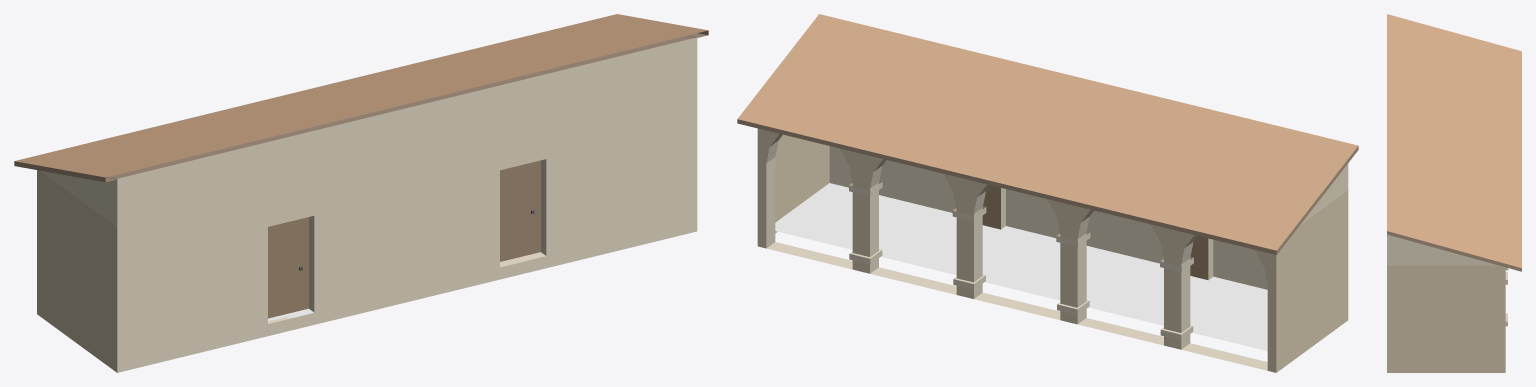
The model's file is SM_BM_BH_Chiostro.glb.
The picture shows the model from 3 angles, left to right: view 1: azimuth 30°, elevation 25°; view 2: azimuth 150°, elevation 25°; view 3: azimuth 270°, elevation 25°; orthographic projection. The views are drawn at different scales.
Visible parts, largest first — view 1: SM_BM_BH_Chiostro; view 2: SM_BM_BH_Chiostro; view 3: SM_BM_BH_Chiostro.
Boxes of the visible parts, bbox=[...] form: SM_BM_BH_Chiostro: bbox=[14, 14, 708, 372]; SM_BM_BH_Chiostro: bbox=[737, 14, 1358, 372]; SM_BM_BH_Chiostro: bbox=[1387, 14, 1521, 372].
Size of the model in its own units: 15.6 by 4.9 by 4.1.
